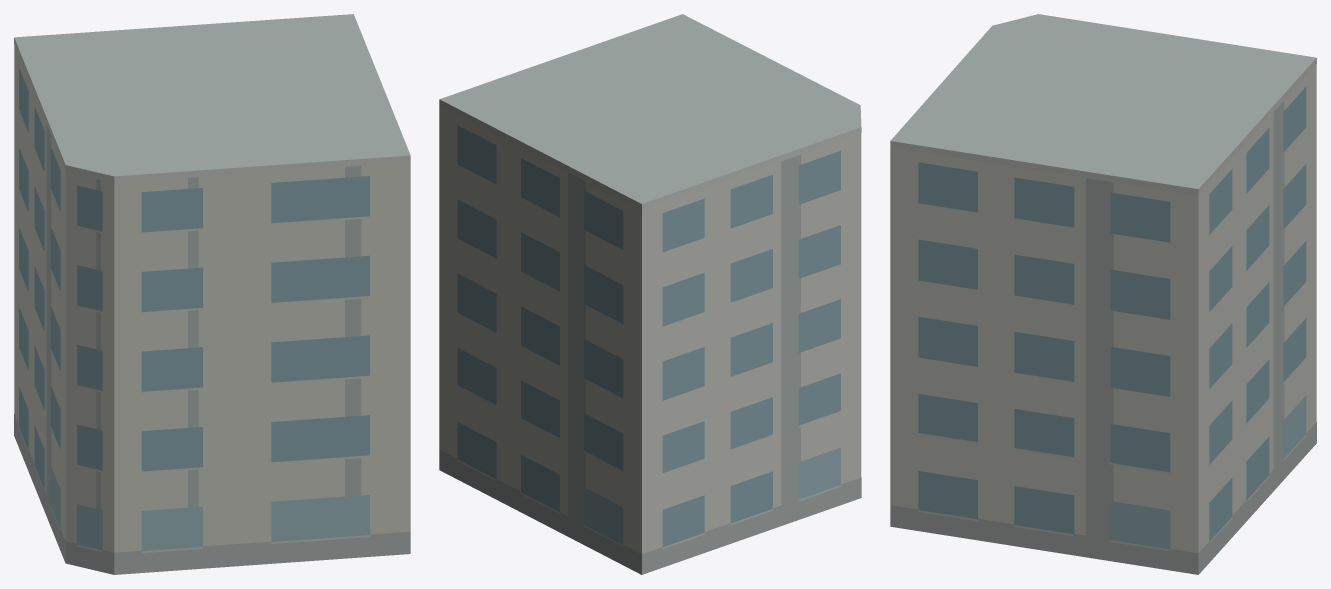
Rendered from survey-upis-33040871.glb.
The picture shows the model from 3 angles, left to right: view 1: azimuth 30°, elevation 25°; view 2: azimuth 150°, elevation 25°; view 3: azimuth 270°, elevation 25°; orthographic projection. The views are drawn at different scales.
Parts seen in each view (by area): view 1: survey-upis-33040871.tmp; view 2: survey-upis-33040871.tmp; view 3: survey-upis-33040871.tmp.
Boxes of the visible parts, x1,y1,x2,y2 form: survey-upis-33040871.tmp: (14,14,410,574); survey-upis-33040871.tmp: (439,14,861,574); survey-upis-33040871.tmp: (890,14,1316,574).
Bounding box in the file's own units: 14.03 × 14.4 × 14.44.
